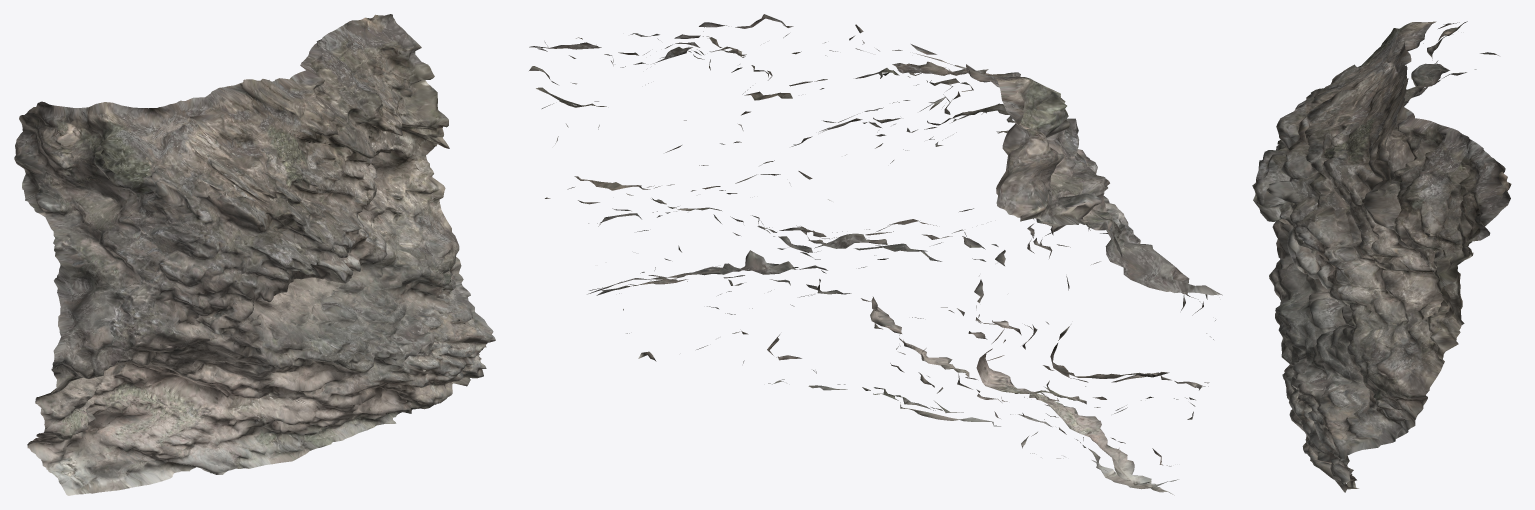
Rendered from cliff_c.glb.
3 views of the same model, side by side, from view 1: azimuth 30°, elevation 25°; view 2: azimuth 150°, elevation 25°; view 3: azimuth 270°, elevation 25° (orthographic). The views are drawn at different scales.
Visible parts, largest first — view 1: cliff_c; view 2: cliff_c; view 3: cliff_c.
Part boxes in pixels (x1,y1,x2,y2): cliff_c: (14,14,495,495); cliff_c: (529,14,1222,495); cliff_c: (1252,21,1511,492).
Size of the model in its own units: 33.01 by 23.12 by 16.98.
1 material, 1 textured.
